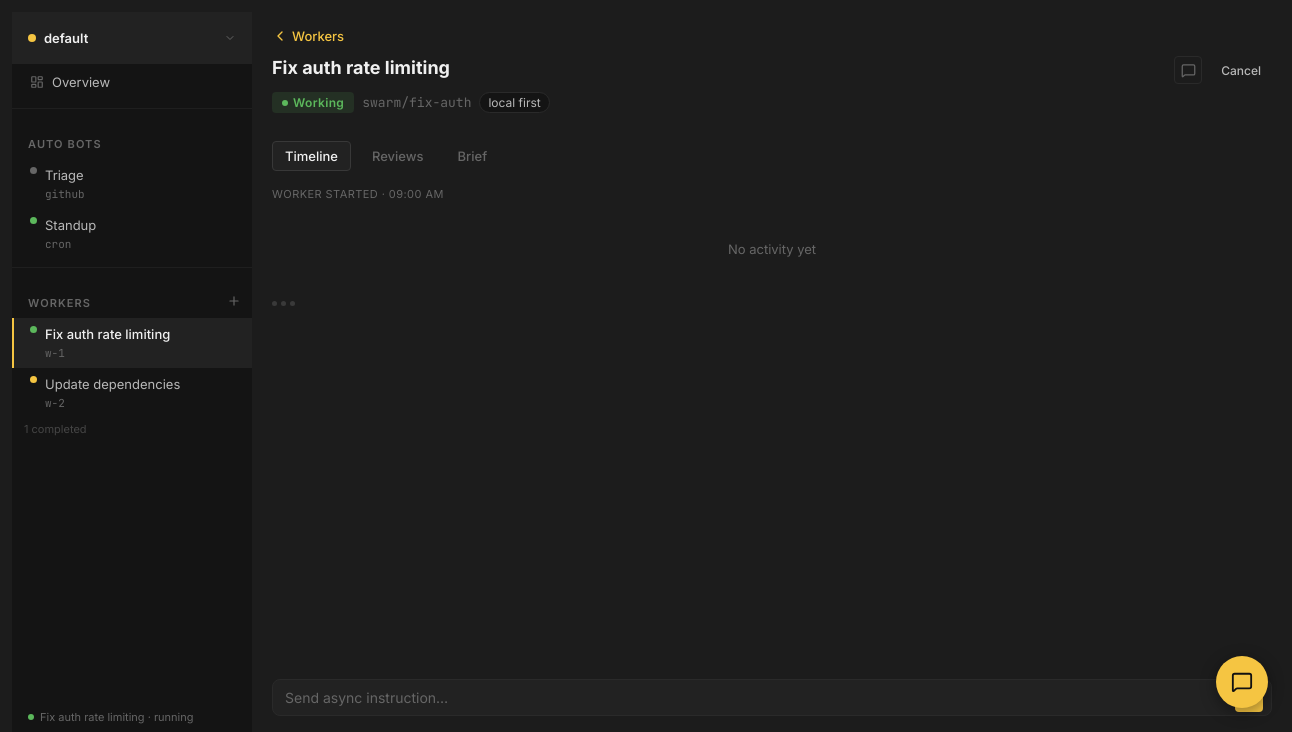
Test: App shell › shows auto bot detail when an auto bot is selected
Click the button "Triage github" at x=132, y=184, box [12,159,252,209]
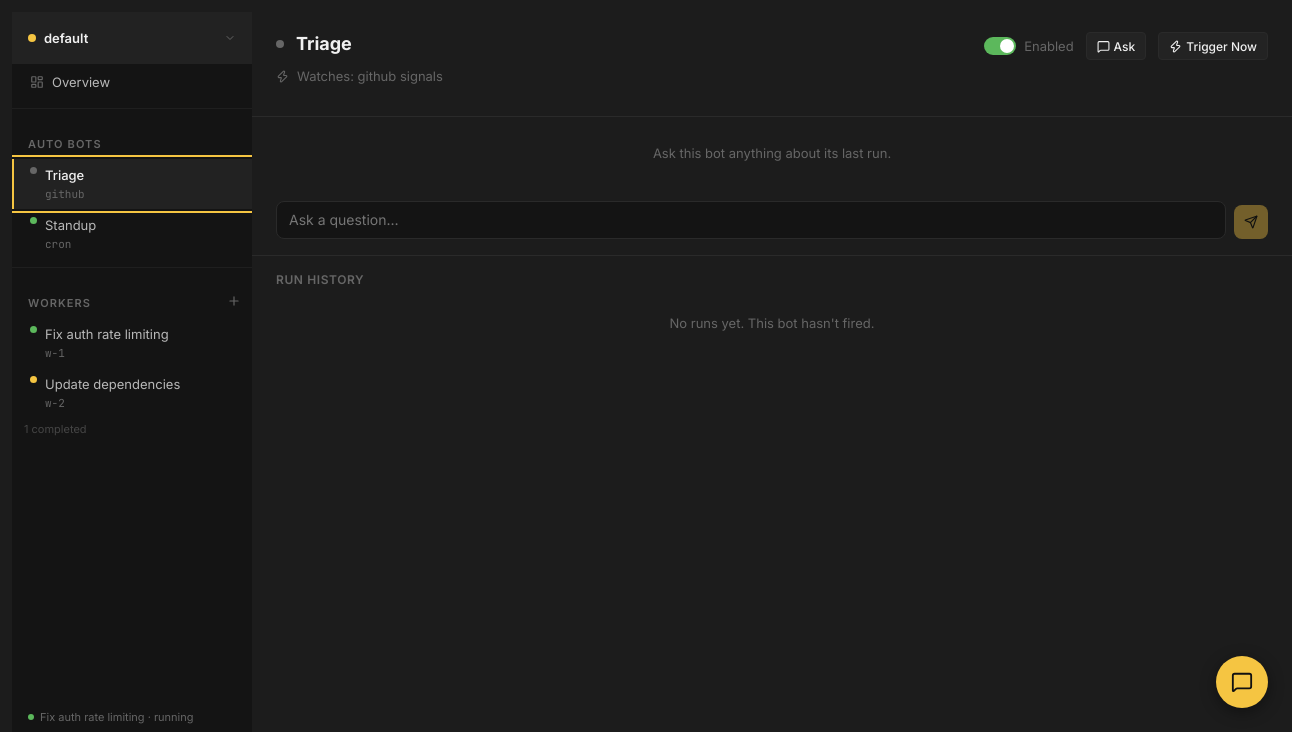
Result: the heading with test id "bot-name" reads "Triage" at [296,33,352,54]
